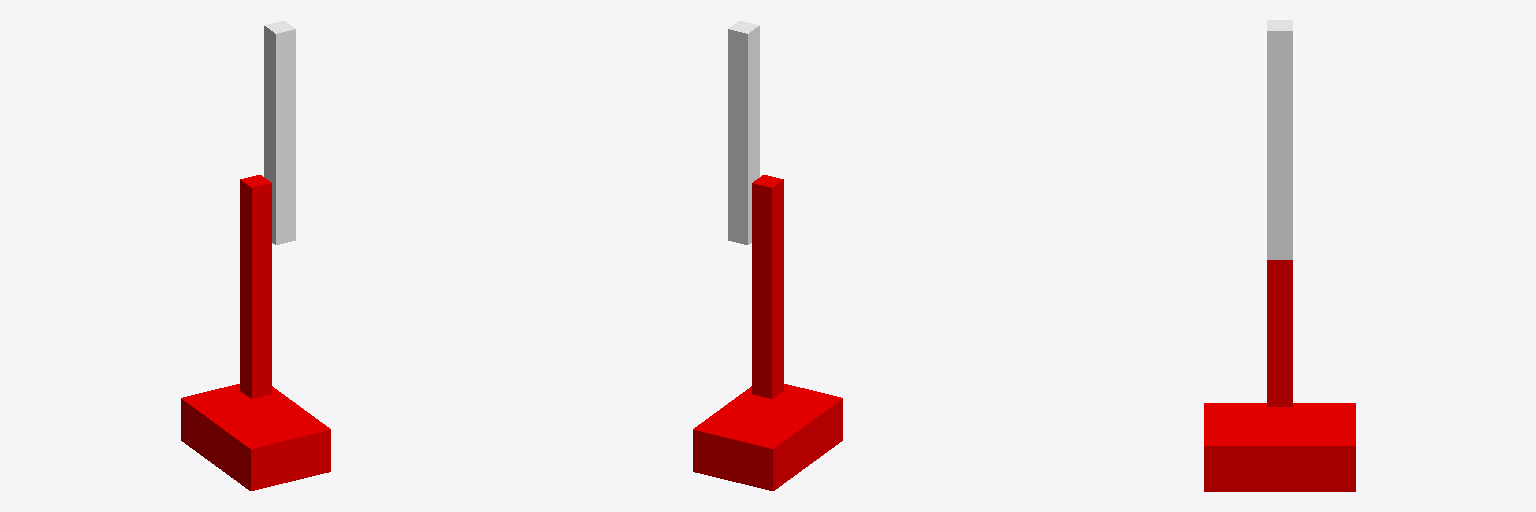
The robot description file, URDF, robot "origins":
<?xml version="1.0"?>

<robot name="origins">
	<link name="base_link">
   		<visual>
     			<geometry>
       				<box size="0.2 .3 .1"/>
     			</geometry>
                        <origin rpy="0 0 0" xyz="0 0 0.05"/>
			<material name="red">
				<color rgba="1 0 0 1"/>
			</material>
   		</visual>
		<collision>
			<geometry>
       				<box size="0.2 .3 0.1"/>
			</geometry>
		</collision>
				
 	</link>


	<link name="link_1">
   		<visual>
     			<geometry>
       				<box size="0.05 .05 0.5"/>
     			</geometry>
                        <origin rpy="0 0 0" xyz="0 0 0.25"/>
			<material name="red">
				<color rgba="1 0 0 1"/>
			</material>
   		</visual>
		<collision>
			<geometry>
       				<box size="0.05 .05 0.5"/>
			</geometry>
		</collision>

 	</link>
        <link name="link_2">
                <visual>
                        <geometry>
                                <box size="0.05 .05 0.5"/>
                        </geometry>
                        <origin rpy="0 0 0" xyz="0.06 0 0.15"/>
                        <material name="white">
                                <color rgba="1 1 1 1"/>
                        </material>
                </visual>
                <collision>
                        <geometry>
                                <box size="0.05 .05 0.5"/>
                        </geometry>
                </collision>

        </link>
  <link name="tool0"></link>



	<joint name="joint_1" type="revolute">
                <parent link="base_link"/>
		<child link="link_1"/>
                <axis xyz="0 0 1"/>
                <origin xyz="0 0 0.15"/>
                <limit effort ="0" lower="-1.0" upper="1.0" velocity="0.5"/>
	</joint>


	<joint name="joint_2" type="revolute">
		<parent link="link_1"/>
		<child link="link_2"/>
                <axis xyz="1 0 0"/>
                <origin xyz="0 0 0.45"/>
                <limit effort ="0" lower="-2.5" upper="2.5" velocity="0.5"/>
	</joint>

  <joint name="joint_3" type="revolute">
    <parent link="link_2"/>
    <child link="tool0"/>
    <origin rpy="0 -1.57 0" xyz="0.06 0 0.4"/>
    <limit effort ="0" lower="-0.1" upper="0.1" velocity="0.5"/>

  </joint>



     	

</robot>

--- Render facts (derived) ---
Views: 3 orthographic renders of the robot side by side, from view 1: azimuth 30°, elevation 25°; view 2: azimuth 150°, elevation 25°; view 3: azimuth 270°, elevation 25°.
Robot: origins — 4 links, 3 joints (3 revolute); root link base_link; default pose: every joint at zero.
Links seen in each view (by area): view 1: base_link, link_1, link_2; view 2: base_link, link_1, link_2; view 3: base_link, link_2, link_1.
Boxes of the visible links, <box> form: base_link: <box>181,384,330,490</box>; link_1: <box>240,175,271,398</box>; link_2: <box>264,20,295,244</box>; base_link: <box>693,384,842,490</box>; link_1: <box>752,175,783,398</box>; link_2: <box>728,20,759,244</box>; base_link: <box>1204,403,1355,491</box>; link_2: <box>1267,20,1292,259</box>; link_1: <box>1267,260,1292,406</box>.
Bounding box of the posed robot: 0.2 × 0.3 × 1 m (x, y, z).
Geometry: primitives only (box / cylinder / sphere), no mesh files.